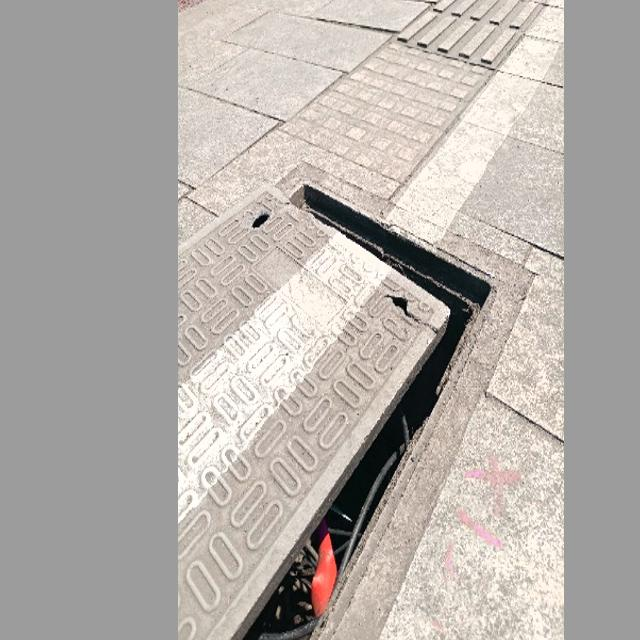uncovered: (182, 176, 499, 640)
